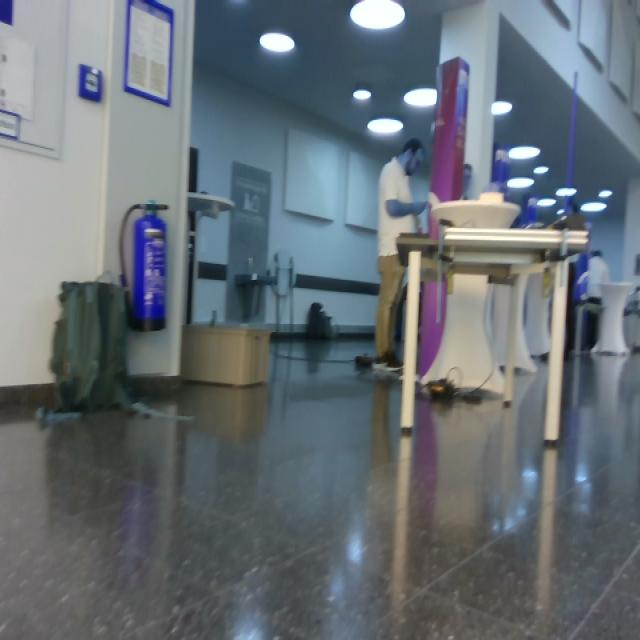door: (1, 1, 196, 389), (102, 1, 196, 378)
fire extinguisher: (120, 200, 170, 332)
light bulb: (349, 1, 406, 32), (259, 32, 295, 53), (367, 117, 404, 136), (404, 88, 438, 108), (508, 146, 541, 160), (491, 100, 513, 116), (507, 177, 535, 189), (580, 201, 607, 213), (353, 89, 372, 101), (537, 198, 557, 208), (556, 188, 577, 197), (533, 165, 549, 174), (598, 189, 613, 198)
person: (373, 138, 432, 369)
tiled floor: (2, 335, 639, 639)
